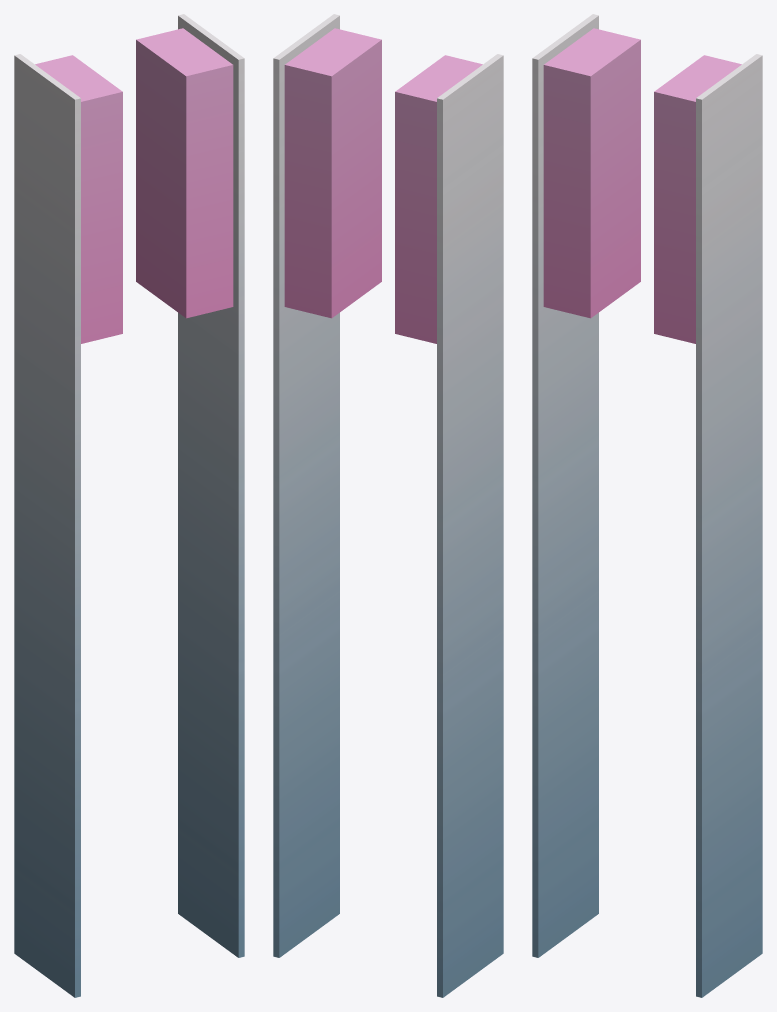
The model's file is Obstacle_6.fbx.
3 renders of one model, left to right at view 1: azimuth 30°, elevation 25°; view 2: azimuth 150°, elevation 25°; view 3: azimuth 330°, elevation 25°, orthographic.
Parts seen in each view (by area): view 1: Obstacle_6; view 2: Obstacle_6; view 3: Obstacle_6.
Boxes of the visible parts, <box> form: Obstacle_6: <box>14,14,244,997</box>; Obstacle_6: <box>273,14,503,997</box>; Obstacle_6: <box>532,14,762,997</box>.
Bounding box in the file's own units: 862 × 4361 × 534.
